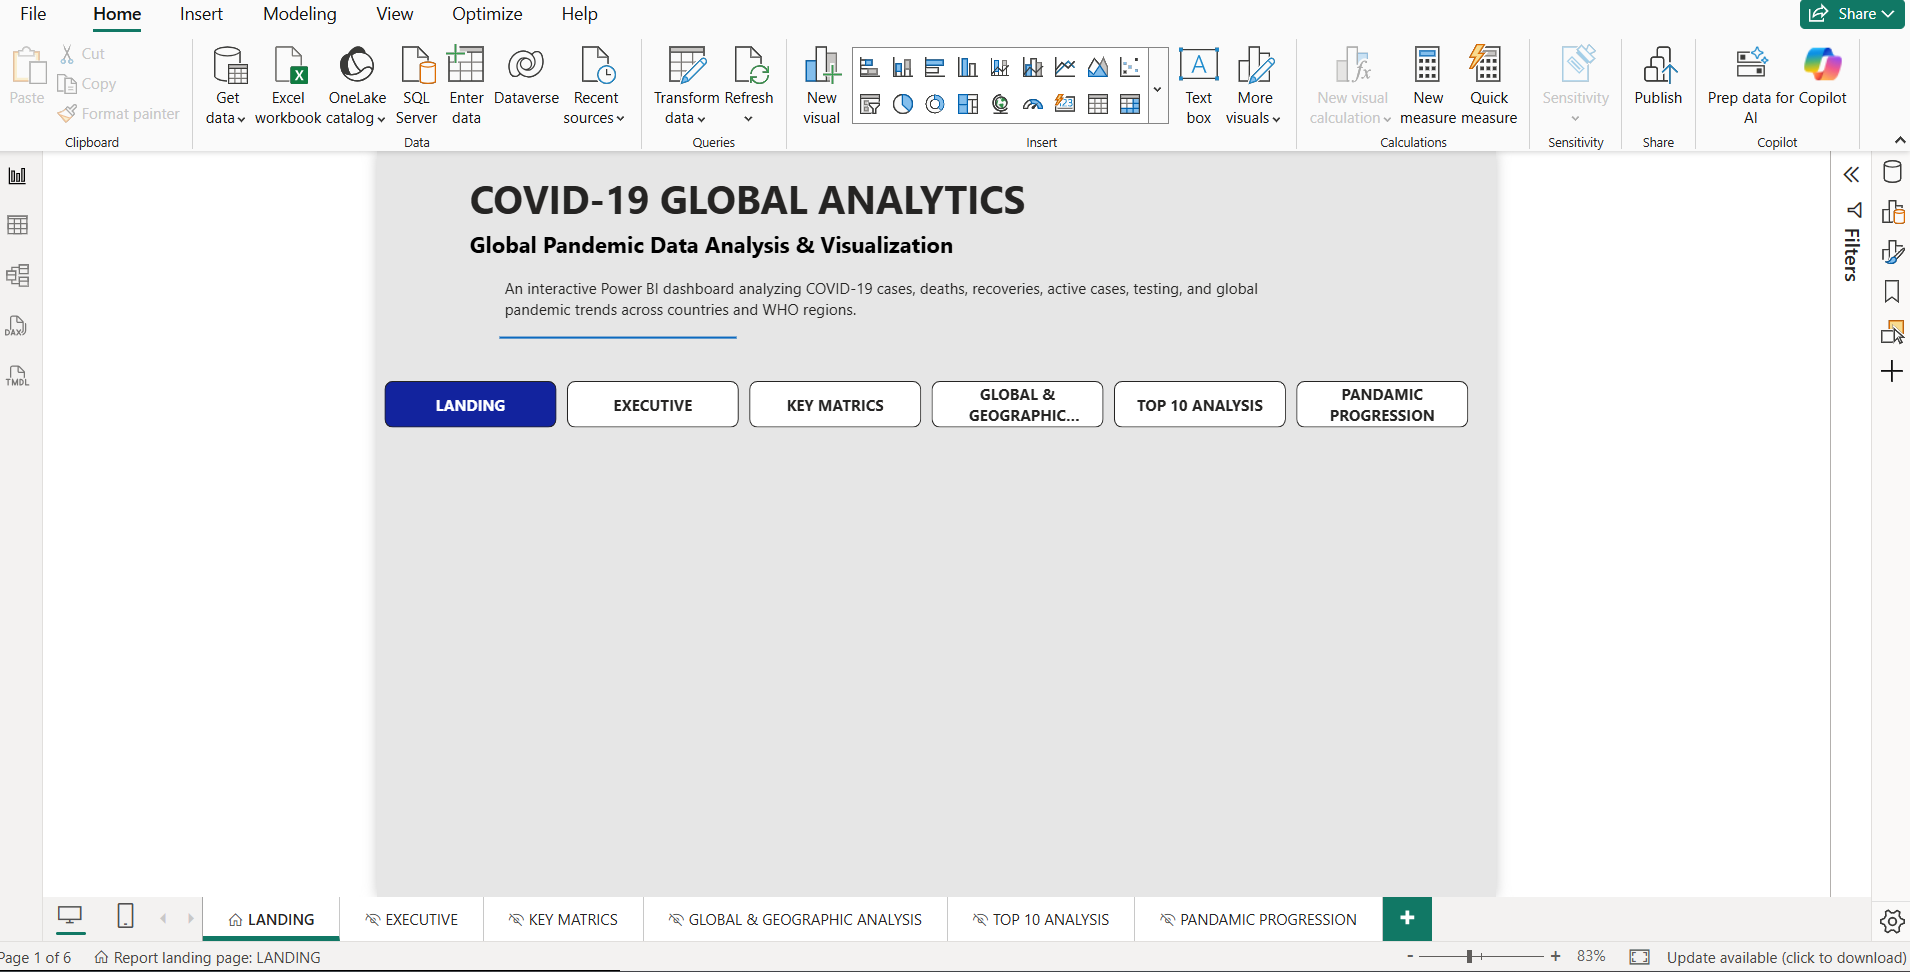

The page's visual inventory and layout, read from the dashboard file:
{"tool":"powerbi","page":{"name":"LANDING","canvas":[1080,720],"ordinal":0},"visuals":[{"type":"textbox","title":"COVID-19 GLOBAL ANALYTICS","box":[84,21,842.1,84],"z":0},{"type":"textbox","title":"An interactive Power BI dashboard analyzing COVID-19 cases, deaths, recoveries, active cases, testing, and global pandemic trends across countries and WHO regions.","box":[118.4,122.2,777.2,45.8],"z":1},{"type":"pageNavigator","box":[7.6,221.5,1046.4,45],"z":2},{"type":"shape","box":[118.4,122.2,229.1,116.5],"z":3}]}

Visuals, with their boxes on the page's 1080x720 design canvas (x1, y1, x2, y2). These are canvas units, not pixel positions in the 1910x972 screenshot, which may show the page scaled, cropped or inside an application window:
"COVID-19 GLOBAL ANALYTICS" textbox: x1=84 y1=21 x2=926 y2=105
"An interactive Power BI dashboard analyzing COVID-19 cases, deaths, recoveries, active cases, testing, and global pandemic trends across countries and WHO regions." textbox: x1=118 y1=122 x2=896 y2=168
pageNavigator: x1=8 y1=222 x2=1054 y2=266
shape: x1=118 y1=122 x2=348 y2=239
